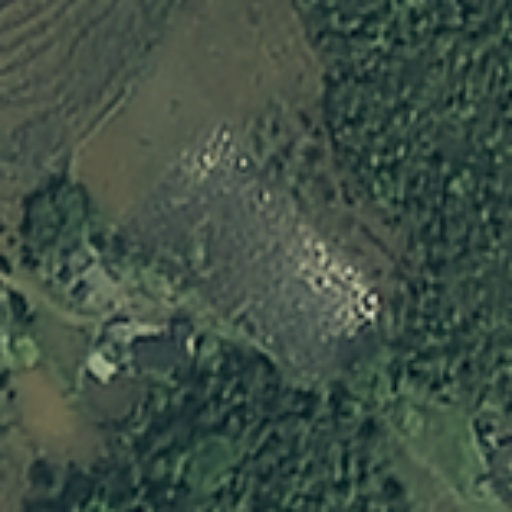landslide: (296, 235, 386, 323)
